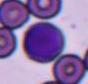L: (23, 22, 65, 62)
